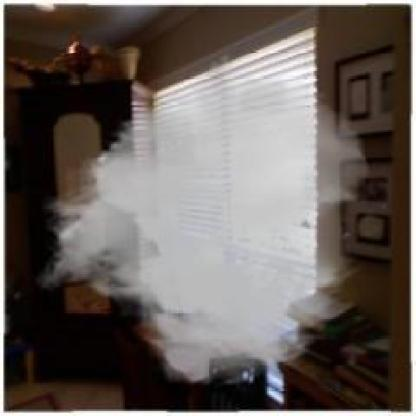Smoke: (34, 54, 372, 388)
